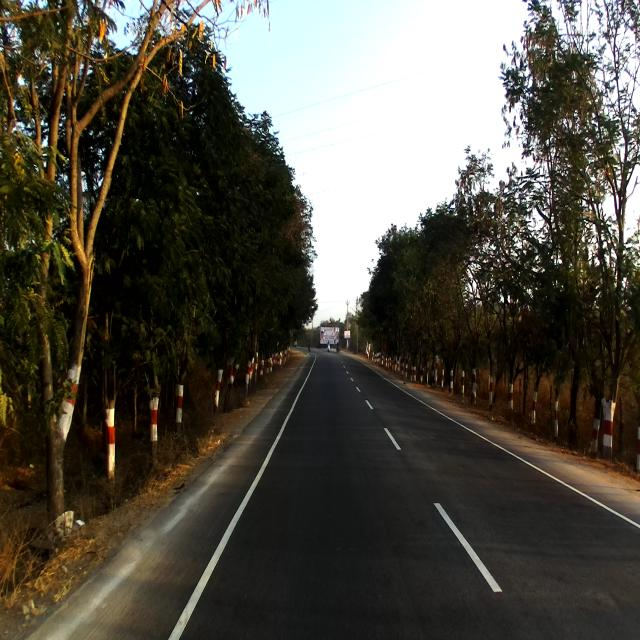tree ahead at: (40, 380, 78, 549), (100, 364, 124, 503), (144, 382, 168, 472)
